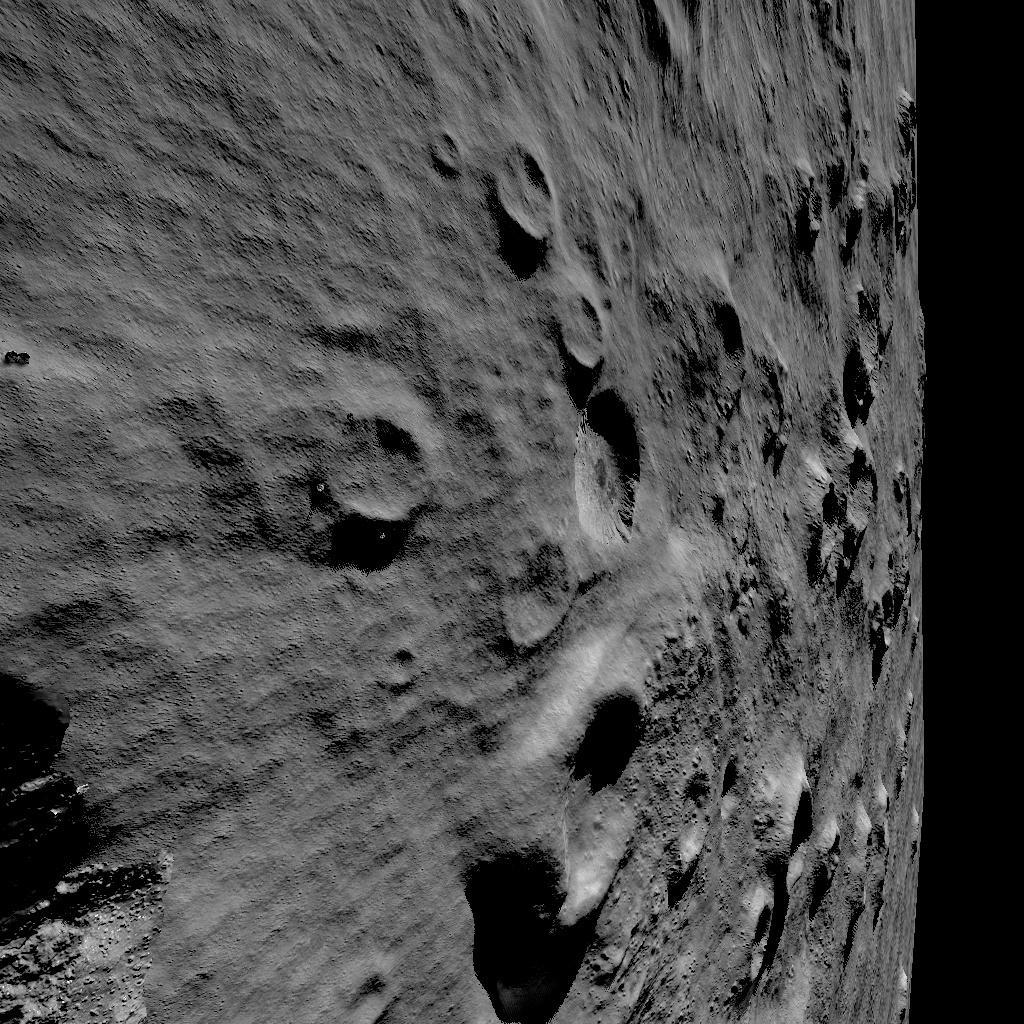Boulders: (0, 632, 171, 1024)
Crater: (458, 650, 653, 1010), (494, 140, 650, 545), (674, 728, 908, 986), (806, 295, 920, 638), (568, 0, 870, 100), (671, 295, 765, 490), (794, 115, 916, 260), (316, 410, 438, 535)
Plan surface: (0, 0, 475, 395), (190, 565, 446, 1024), (0, 422, 298, 542)
